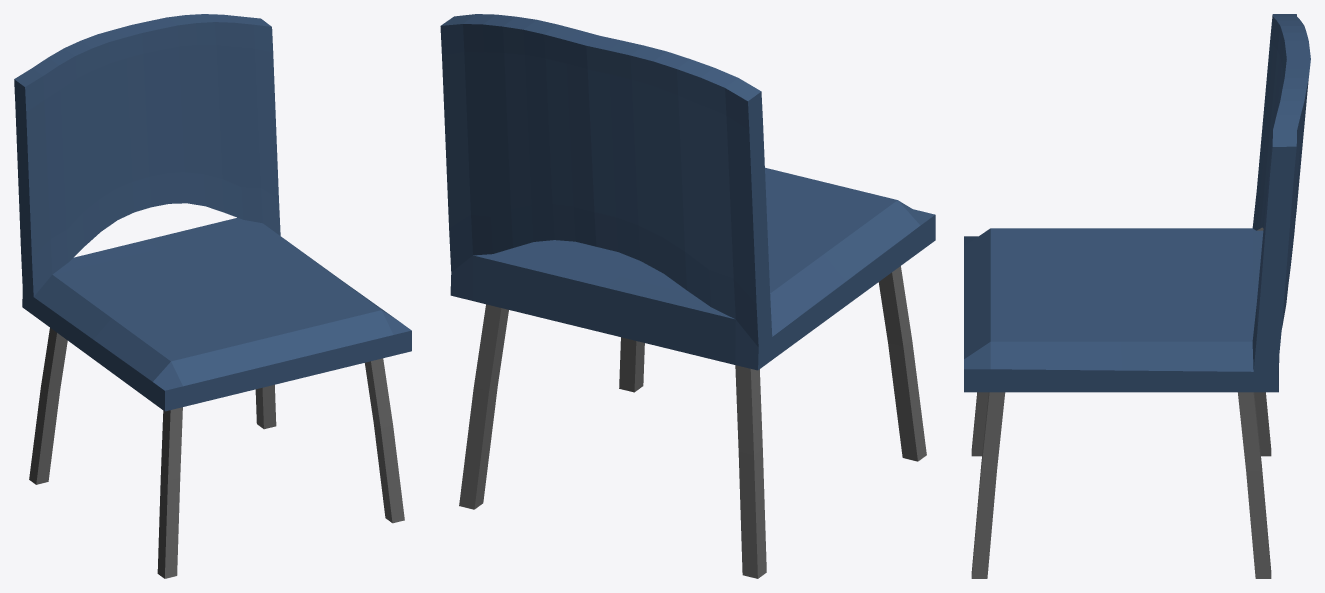
Rendered from ChairLowPoly.fbx.
3 renders of one model, left to right at view 1: azimuth 30°, elevation 25°; view 2: azimuth 150°, elevation 25°; view 3: azimuth 270°, elevation 25°, orthographic. The views are drawn at different scales.
Parts seen in each view (by area): view 1: ModernChair; view 2: ModernChair; view 3: ModernChair.
Boxes of the visible parts, x1,y1,x2,y2 form: ModernChair: [14, 14, 411, 578]; ModernChair: [440, 14, 935, 578]; ModernChair: [964, 14, 1310, 578].
Bounding box in the file's own units: 2.2 × 2 × 3.19.
